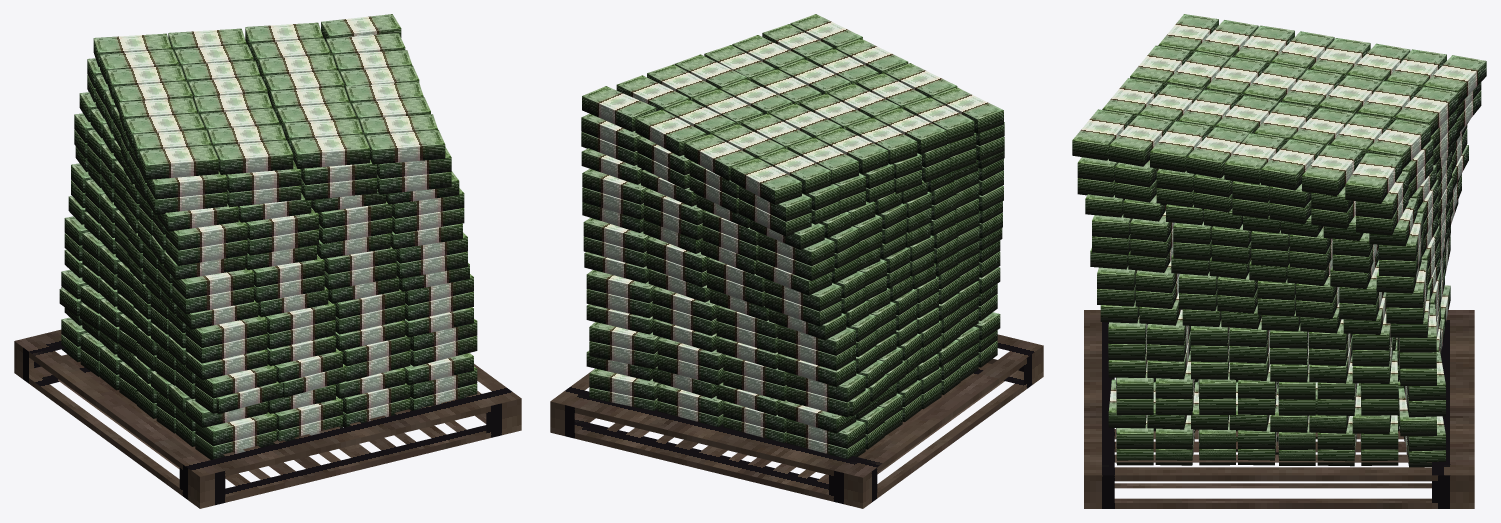
File: MoneyPack.fbx
The picture shows the model from 3 angles, left to right: view 1: azimuth 30°, elevation 25°; view 2: azimuth 150°, elevation 25°; view 3: azimuth 270°, elevation 25°; orthographic projection. The views are drawn at different scales.
Visible parts, largest first — view 1: Money_500x, Money_100X; view 2: Money_500x, Money_100X; view 3: Money_500x, Money_100X.
Boxes of the visible parts, box(x1,y1,x2,y2) form: Money_500x: box(61, 14, 477, 459); Money_100X: box(14, 288, 521, 508); Money_500x: box(581, 14, 1004, 458); Money_100X: box(550, 312, 1043, 508); Money_500x: box(1072, 14, 1486, 465); Money_100X: box(1084, 285, 1474, 508).
Size of the model in its own units: 227 by 203 by 227.
